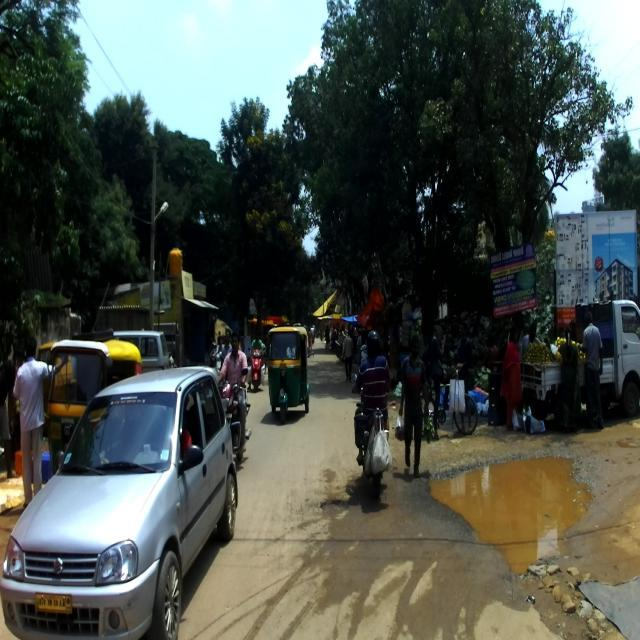Pothole: (435, 442, 629, 640)
